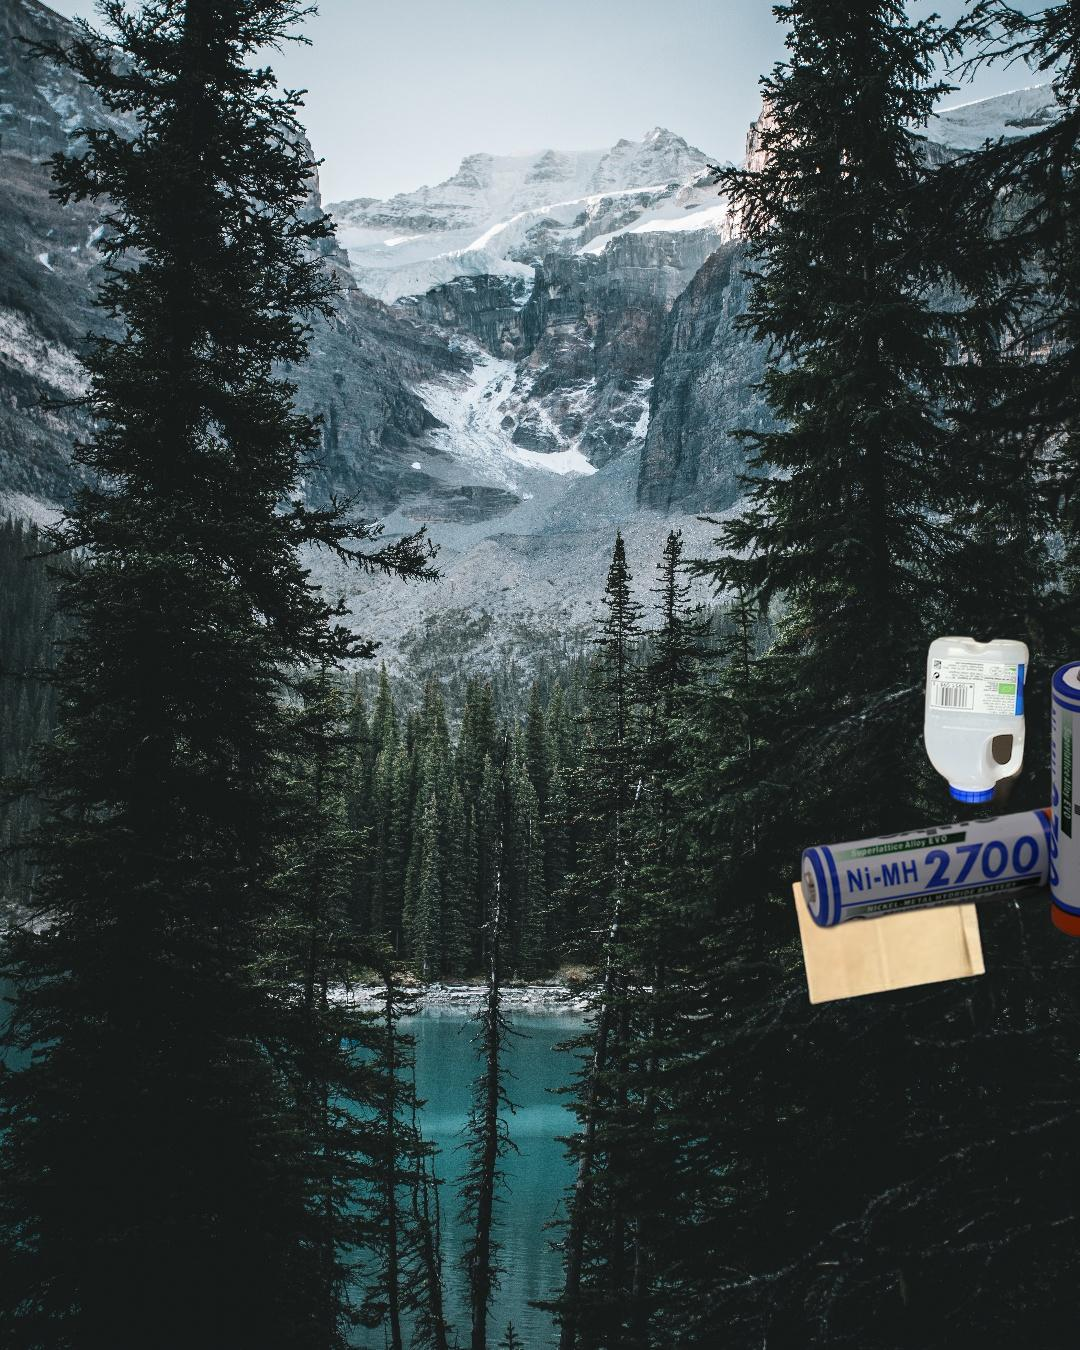battery: (796, 656, 1080, 943)
paper-bag: (790, 851, 989, 1008)
plastic-bottles: (918, 630, 1034, 821)
